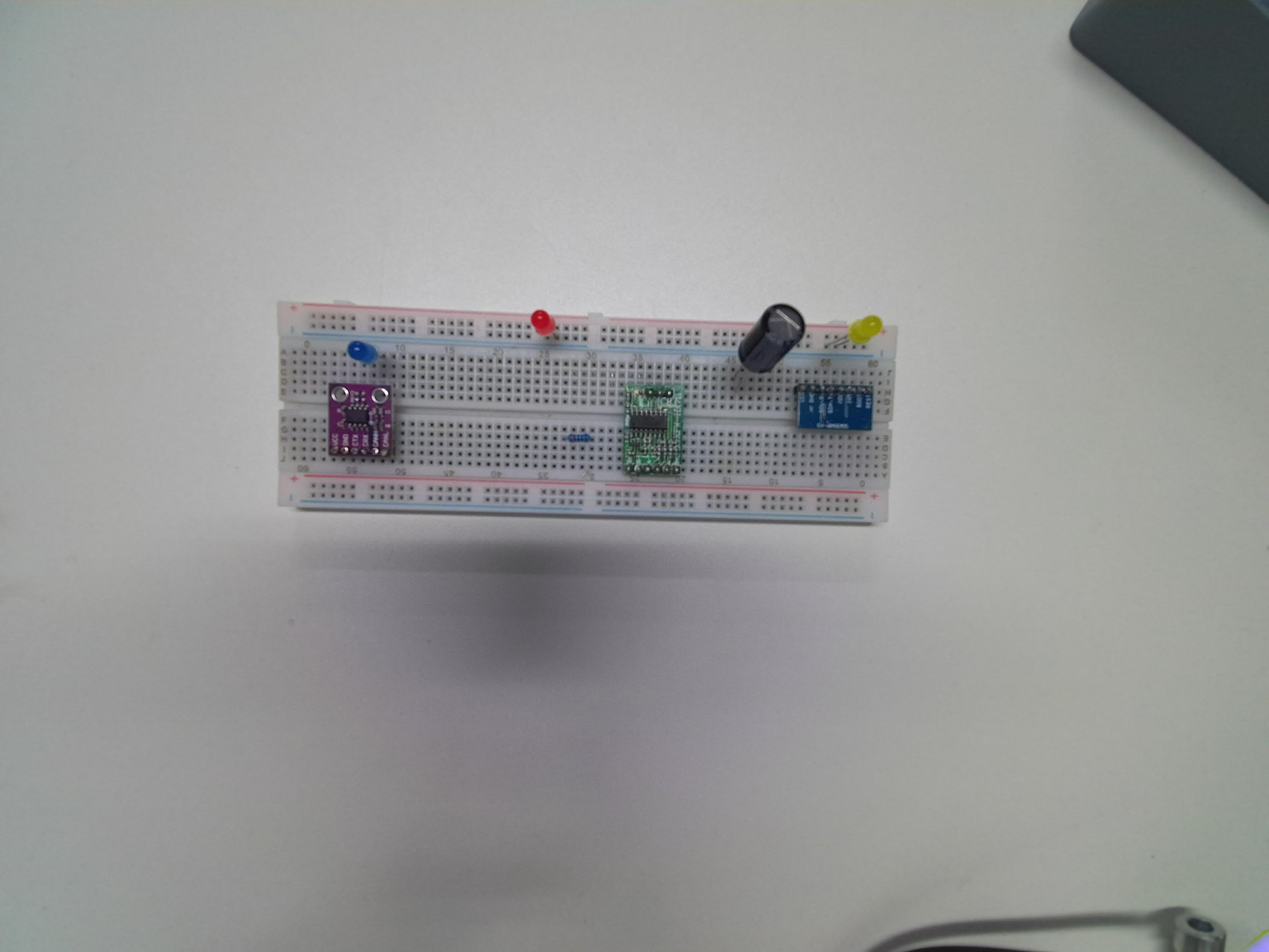base: (275, 299, 902, 528)
blue-board: (795, 378, 874, 433)
blue-led: (348, 340, 377, 365)
capacitor: (734, 299, 810, 380)
green-board: (617, 383, 687, 478), (617, 383, 687, 477)
purple-board: (326, 380, 395, 463)
red-led: (530, 309, 555, 338)
resistor-small: (564, 430, 592, 444)
yellow-led: (844, 312, 885, 349)
